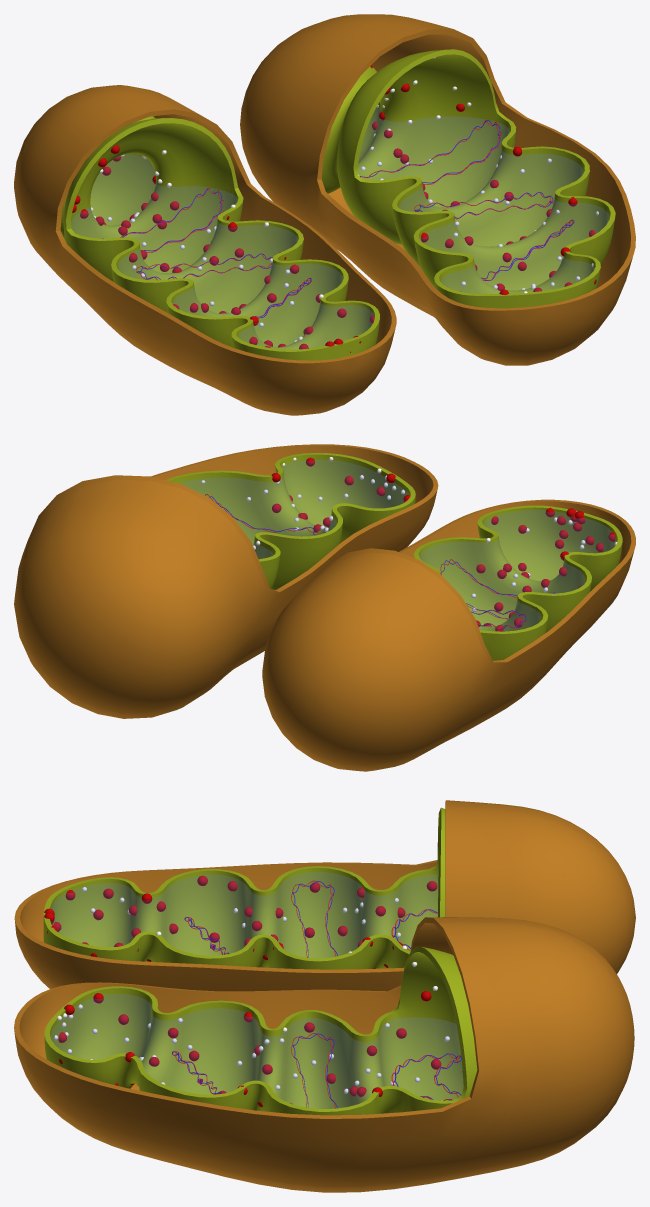
The model's file is mitochondrion_cross-section_wip.glb.
3 renders of one model, top to bottom at view 1: azimuth 30°, elevation 25°; view 2: azimuth 150°, elevation 25°; view 3: azimuth 270°, elevation 25°, orthographic. The views are drawn at different scales.
Visible parts, largest first — view 1: Torus012_21 - Default_0, Torus013_21 - Default_0, Capsule009_20 - Default_0, Capsule010_20 - Default_0, Object001_13 - Default_0, Object002_13 - Default_0, Sphere007__0, Sphere010__0, Sphere009_19 - Default_0, Sphere008_19 - Default_0; view 2: Capsule009_20 - Default_0, Capsule010_20 - Default_0, Torus013_21 - Default_0, Torus012_21 - Default_0, Object002_13 - Default_0, Object001_13 - Default_0, Sphere007__0, Sphere010__0, Sphere009_19 - Default_0; view 3: Capsule009_20 - Default_0, Torus012_21 - Default_0, Capsule010_20 - Default_0, Torus013_21 - Default_0, Object001_13 - Default_0, Object002_13 - Default_0, Sphere007__0, Sphere010__0, Sphere009_19 - Default_0.
Boxes of the visible parts, x1,y1,x2,y2 form: Torus012_21 - Default_0: (321, 49, 615, 308); Torus013_21 - Default_0: (60, 116, 379, 360); Capsule009_20 - Default_0: (240, 14, 635, 365); Capsule010_20 - Default_0: (14, 85, 396, 415); Object001_13 - Default_0: (358, 106, 609, 293); Object002_13 - Default_0: (71, 154, 373, 348); Sphere007__0: (72, 145, 374, 352); Sphere010__0: (370, 65, 596, 294); Sphere009_19 - Default_0: (358, 57, 598, 293); Sphere008_19 - Default_0: (91, 150, 323, 342); Capsule009_20 - Default_0: (14, 444, 438, 718); Capsule010_20 - Default_0: (262, 499, 635, 771); Torus013_21 - Default_0: (413, 505, 622, 660); Torus012_21 - Default_0: (166, 452, 415, 589); Object002_13 - Default_0: (420, 510, 615, 630); Object001_13 - Default_0: (180, 460, 408, 558); Sphere007__0: (476, 507, 615, 631); Sphere010__0: (271, 457, 410, 531); Sphere009_19 - Default_0: (201, 457, 404, 549); Capsule009_20 - Default_0: (14, 917, 634, 1192); Torus012_21 - Default_0: (44, 946, 477, 1115); Capsule010_20 - Default_0: (14, 800, 635, 991); Torus013_21 - Default_0: (43, 807, 445, 969); Object001_13 - Default_0: (51, 994, 462, 1108); Object002_13 - Default_0: (51, 872, 437, 957); Sphere007__0: (44, 844, 438, 968); Sphere010__0: (58, 991, 462, 1106); Sphere009_19 - Default_0: (54, 962, 449, 1100).
Bounding box in the file's own units: 0.1127 × 0.049 × 0.114.
